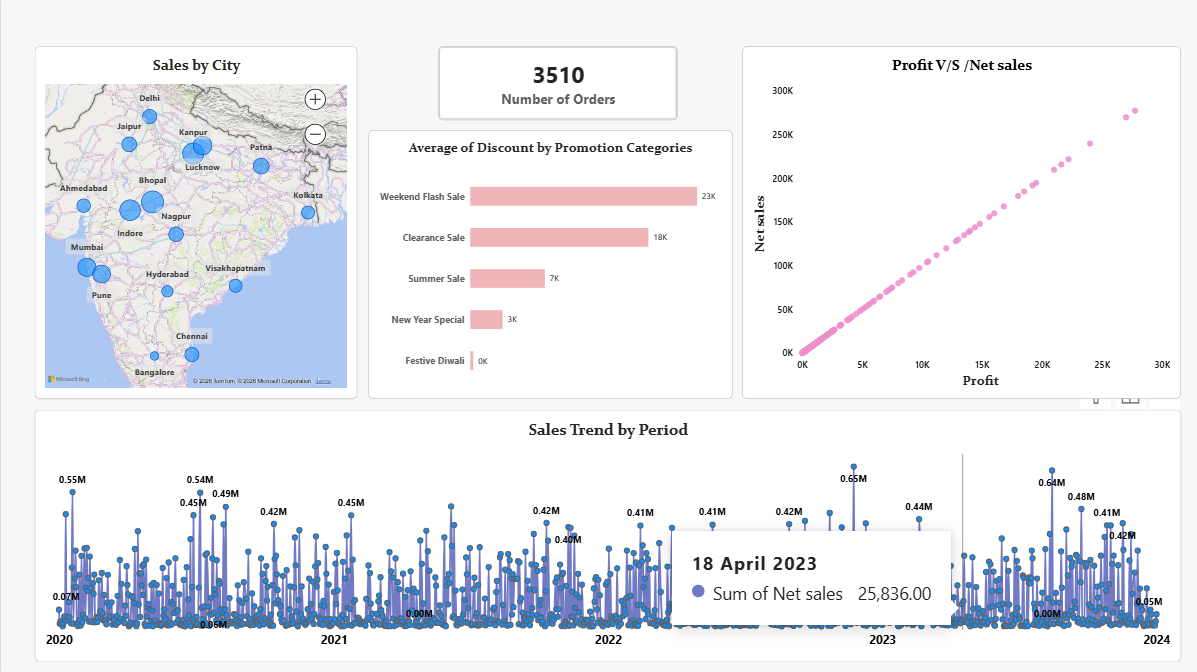

The page's visual inventory and layout, read from the dashboard file:
{"tool":"powerbi","page":{"name":"Overview","canvas":[1920,1080],"ordinal":0},"visuals":[{"type":"lineChart","title":"Sales Trend by Period","fields":{"Category":["Fact table.Date (dd/mm/yyyy).Variation.Date Hierarchy.Year"],"Y":["Sum(Fact table.Net sales)"]},"box":[54,656,1834,402],"z":0},{"type":"scatterChart","title":"Profit V/S /Net sales","fields":{"X":["Fact table.Profit"],"Y":["Fact table.Net sales"]},"box":[1186,74,701.9,564],"z":1000},{"type":"barChart","title":"Average of Discount by Promotion Categories","fields":{"Category":["Dim Promotion.Promotion Name"],"Y":["Avg(Fact table.Discount value)"]},"box":[588,208,582,430],"z":2000},{"type":"map","title":"Sales by City","fields":{"Category":["Dim Customers.City"],"Size":["Sum(Fact table.Net sales)"]},"box":[54,74,516,564],"z":3000},{"type":"cardVisual","fields":{"Data":["Count(Fact table.Order ID)"]},"box":[700,74,382,118],"z":4000}]}

Visuals, with their boxes in screenshot pixels (x1, y1, x2, y2), scaled from the page's 1920x1080 canvas onto the 1197x672 screenshot:
"Sales Trend by Period" lineChart: [x1=34, y1=408, x2=1177, y2=658]
"Profit V/S /Net sales" scatterChart: [x1=739, y1=46, x2=1177, y2=397]
"Average of Discount by Promotion Categories" barChart: [x1=367, y1=129, x2=729, y2=397]
"Sales by City" map: [x1=34, y1=46, x2=355, y2=397]
cardVisual - Count(Fact table.Order ID): [x1=436, y1=46, x2=675, y2=119]
